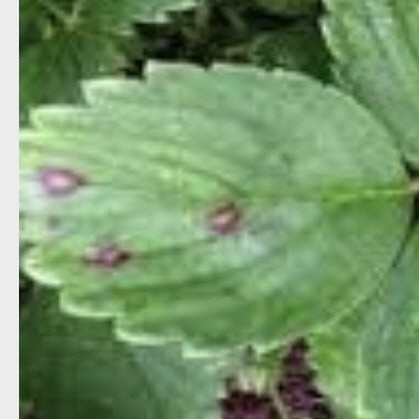Leaf_Spot: (19, 58, 416, 360)
